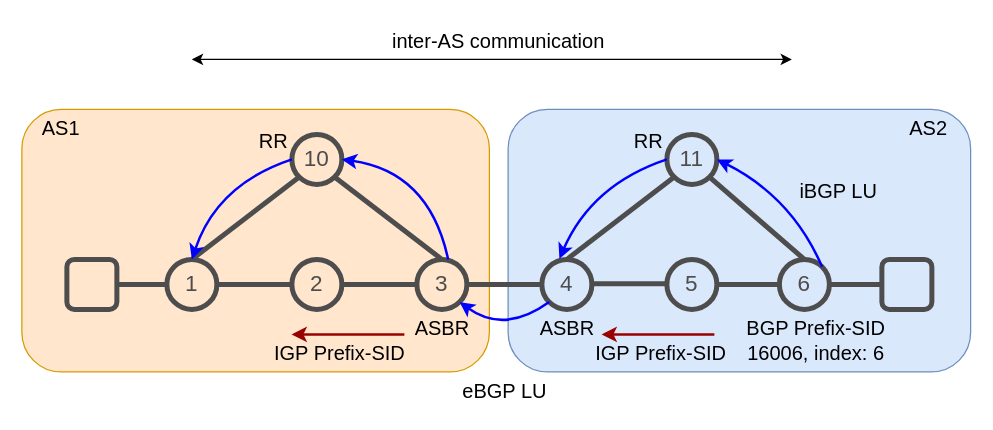
This 993x430 diagram has some shape labels left out. The box of each missing label's shape, as (x1, y1, x2, y2) in pixels:
lx1: (64, 256, 119, 311)
lx2: (879, 256, 934, 311)
